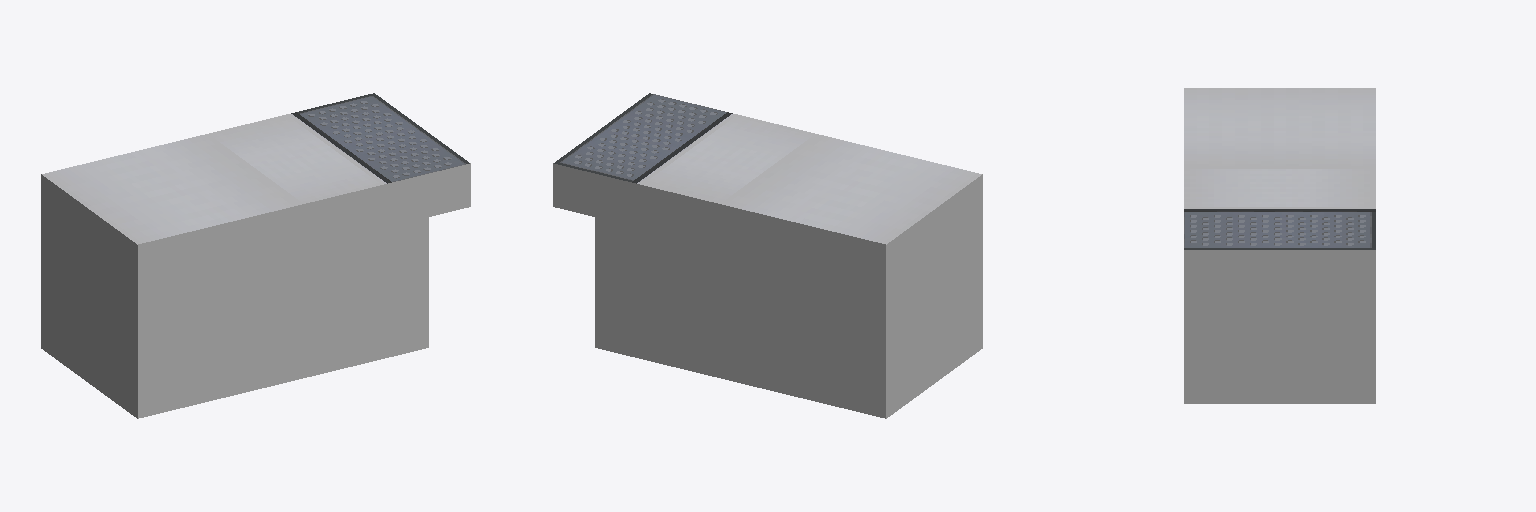
3 views of the same model, side by side, from view 1: azimuth 30°, elevation 25°; view 2: azimuth 150°, elevation 25°; view 3: azimuth 270°, elevation 25° (orthographic).
Parts seen in each view (by area): view 1: cube; view 2: cube; view 3: cube.
Boxes of the visible parts, box(x1,y1,x2,y2) form: cube: box(41, 93, 470, 418); cube: box(553, 93, 982, 418); cube: box(1184, 88, 1375, 403).
Bounding box in the file's own units: 2 × 1 × 1.
Materials: 3 (1 with a texture image).